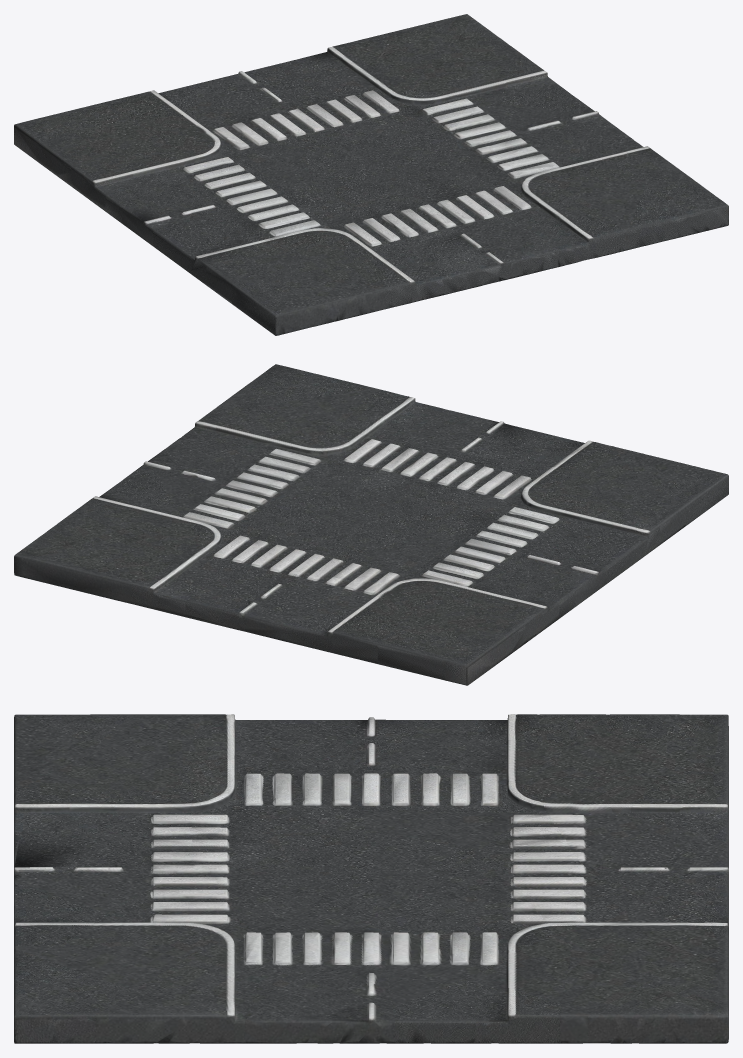
The model's file is roadx.glb.
3 views of the same model, one above another, from view 1: azimuth 30°, elevation 25°; view 2: azimuth 150°, elevation 25°; view 3: azimuth 270°, elevation 25° (orthographic). The views are drawn at different scales.
Parts seen in each view (by area): view 1: mesh_node; view 2: mesh_node; view 3: mesh_node.
Part boxes in pixels (box(x1,y1,x2,y2)): mesh_node: box(14, 14, 728, 335); mesh_node: box(14, 364, 728, 685); mesh_node: box(14, 714, 728, 1043).
Size of the model in its own units: 1.9 by 0.3402 by 1.9.
Materials: 1 (1 with a texture image).
